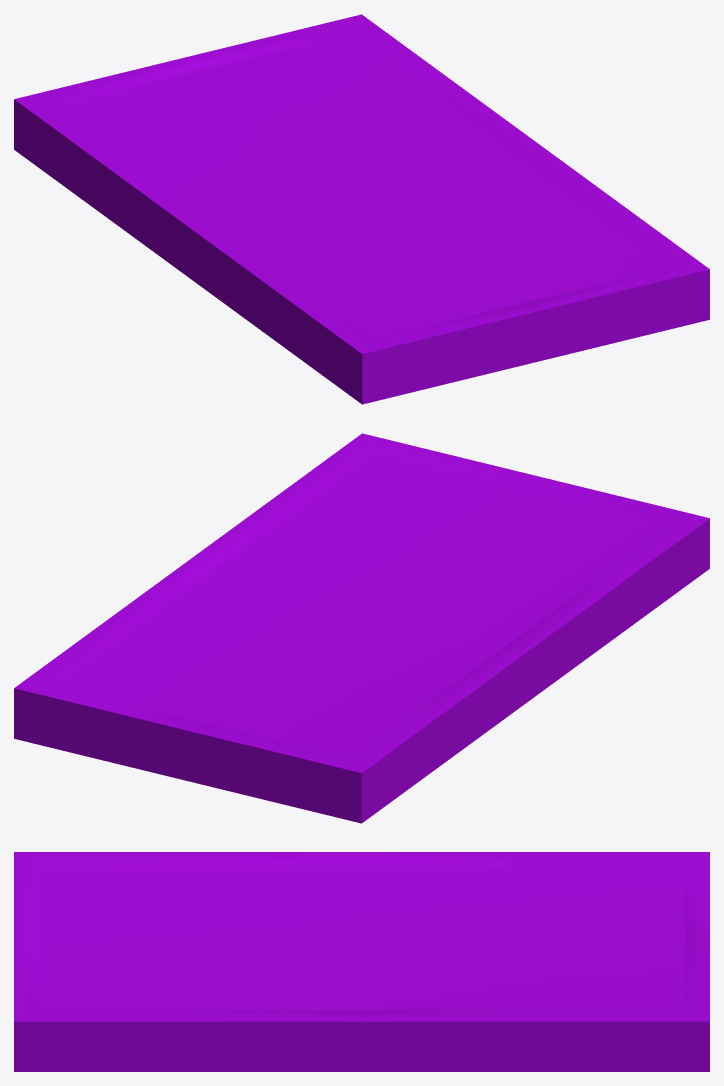
The model's file is sm_pictureFrame_low.fbx.
3 renders of one model, top to bottom at view 1: azimuth 30°, elevation 25°; view 2: azimuth 150°, elevation 25°; view 3: azimuth 270°, elevation 25°, orthographic.
Parts seen in each view (by area): view 1: polySurface120; view 2: polySurface120; view 3: polySurface120.
Part boxes in pixels (left/top/right/bottom): polySurface120: left=14, top=14, right=709, bottom=404; polySurface120: left=14, top=433, right=709, bottom=823; polySurface120: left=14, top=852, right=709, bottom=1071.
Size of the model in its own units: 158 by 21.89 by 274.
